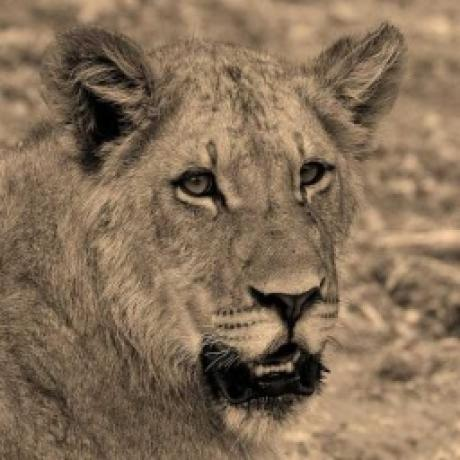Lion: (0, 16, 424, 460)
